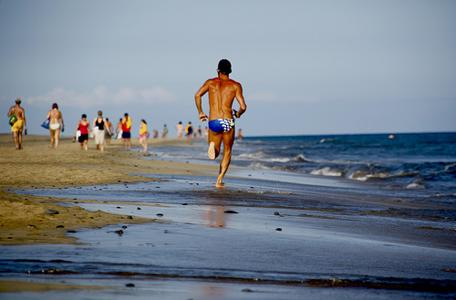person: (194, 59, 247, 190)
